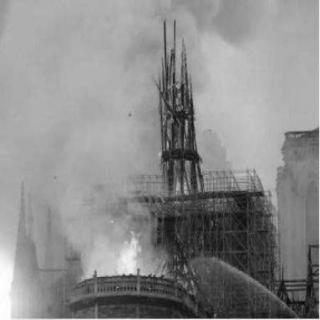Fire: (153, 83, 209, 193)
Smoke: (5, 4, 151, 224)
